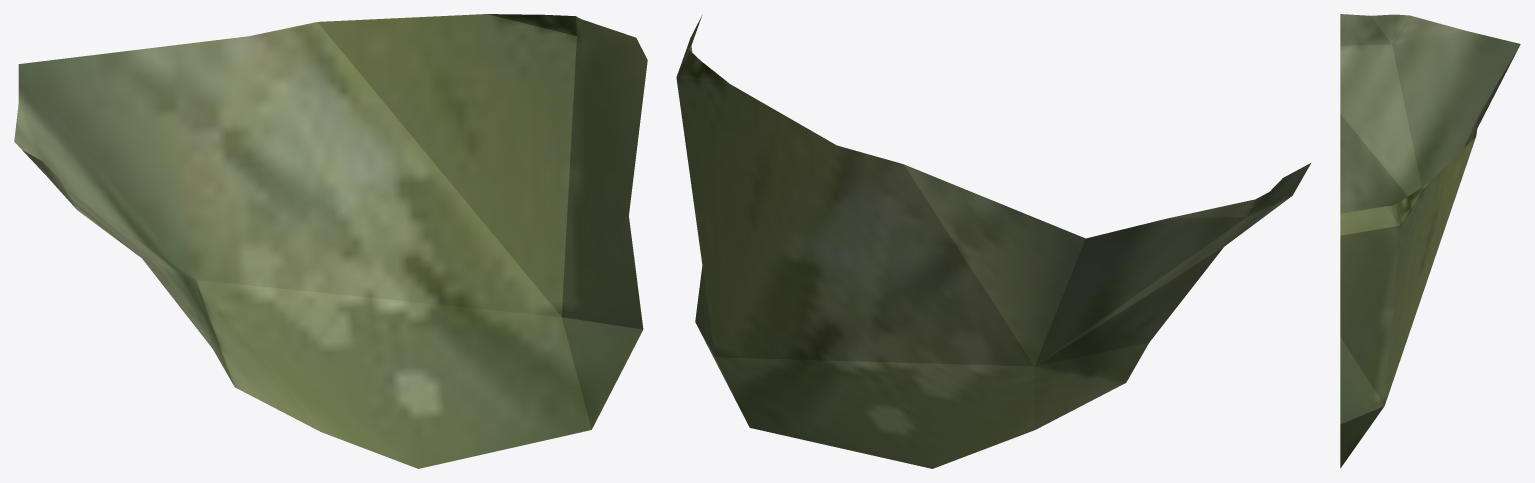
3 views of the same model, side by side, from view 1: azimuth 30°, elevation 25°; view 2: azimuth 150°, elevation 25°; view 3: azimuth 270°, elevation 25° (orthographic). The views are drawn at different scales.
Bounding box in the file's own units: 0.7053 × 0.4367 × 0.2641.
1 material, 1 textured.
